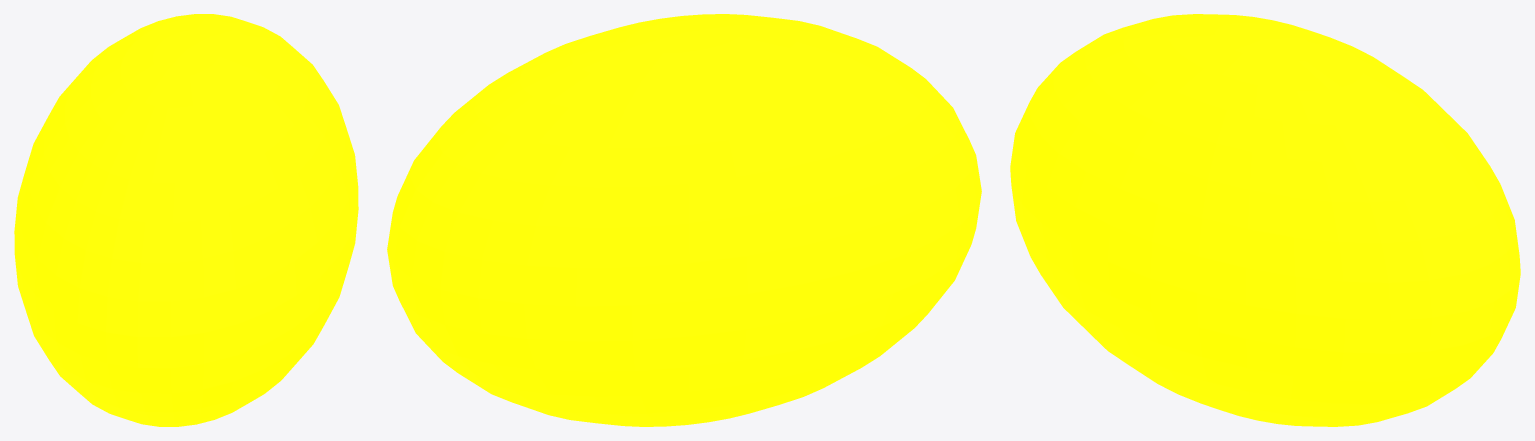
The model's file is Pumpkin light.fbx.
3 views of the same model, side by side, from view 1: azimuth 30°, elevation 25°; view 2: azimuth 150°, elevation 25°; view 3: azimuth 270°, elevation 25° (orthographic). The views are drawn at different scales.
Parts seen in each view (by area): view 1: Sphere.013; view 2: Sphere.013; view 3: Sphere.013.
Boxes of the visible parts, x1,y1,x2,y2 form: Sphere.013: (14, 14, 358, 426); Sphere.013: (387, 14, 981, 426); Sphere.013: (1010, 14, 1520, 426).
Size of the model in its own units: 201 by 171 by 218.
